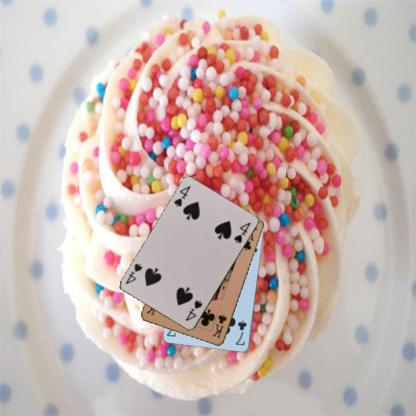4s: (171, 183, 192, 209), (183, 298, 204, 322)
7c: (233, 318, 248, 347)
Kc: (209, 312, 228, 340)
